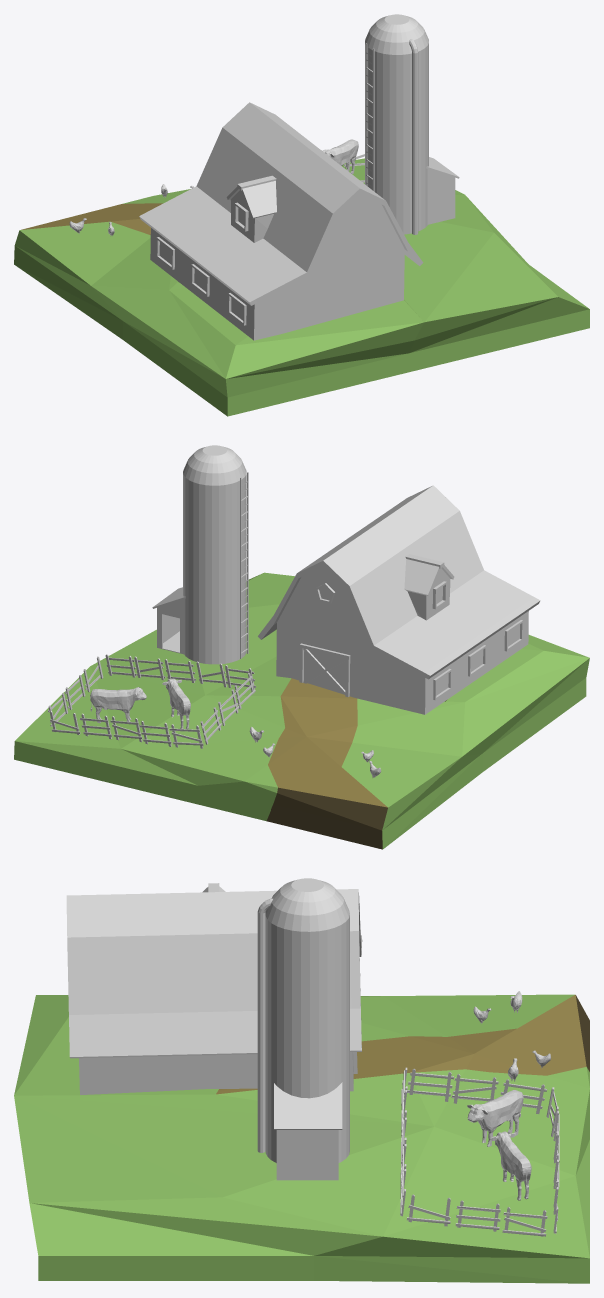
Rendered from building_animalfarm.fbx.
3 views of the same model, one above another, from view 1: azimuth 30°, elevation 25°; view 2: azimuth 150°, elevation 25°; view 3: azimuth 270°, elevation 25° (orthographic). The views are drawn at different scales.
Visible parts, largest first — view 1: grass; view 2: grass; view 3: grass.
Part boxes in pixels (x1,y1,x2,y2): grass: (14,14,589,416); grass: (14,445,589,849); grass: (14,878,589,1283).
Bounding box in the file's own units: 51.6 × 33.74 × 52.21.
